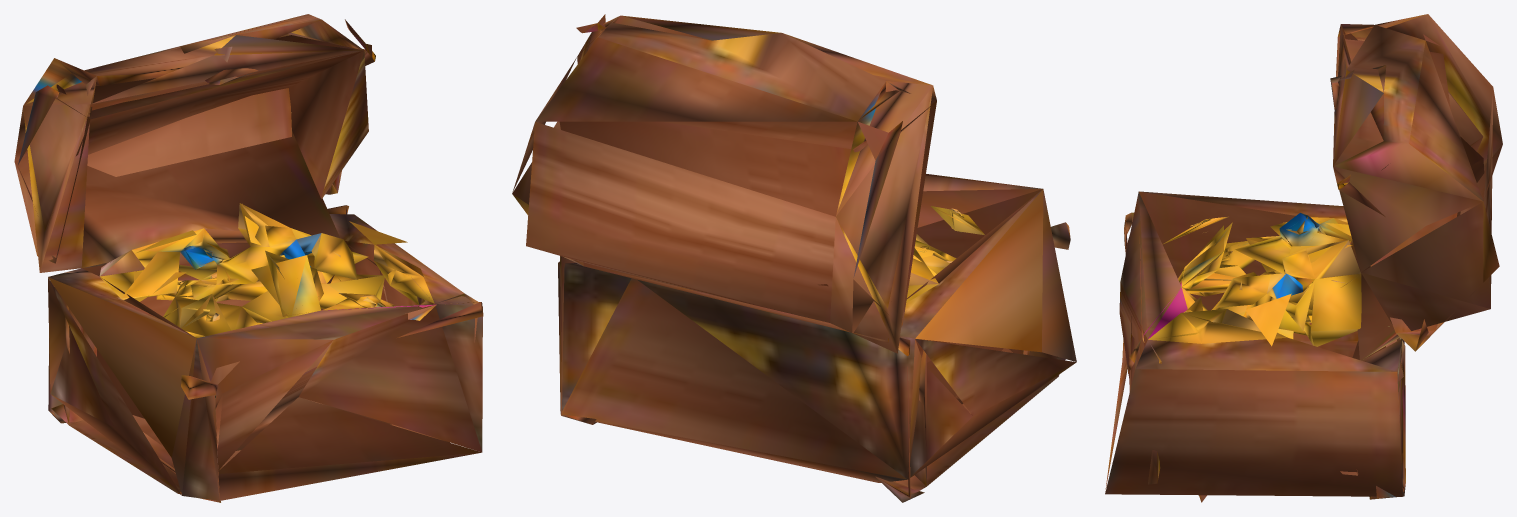
Rendered from lg-treasure-chest-gold.glb.
3 renders of one model, left to right at view 1: azimuth 30°, elevation 25°; view 2: azimuth 150°, elevation 25°; view 3: azimuth 270°, elevation 25°, orthographic. The views are drawn at different scales.
Visible parts, largest first — view 1: geometry_0; view 2: geometry_0; view 3: geometry_0.
Part boxes in pixels (x1,y1,x2,y2): geometry_0: (14,14,483,502); geometry_0: (512,14,1076,502); geometry_0: (1105,14,1502,502).
Bounding box in the file's own units: 0.8805 × 1 × 0.9773.
1 material, 1 textured.
